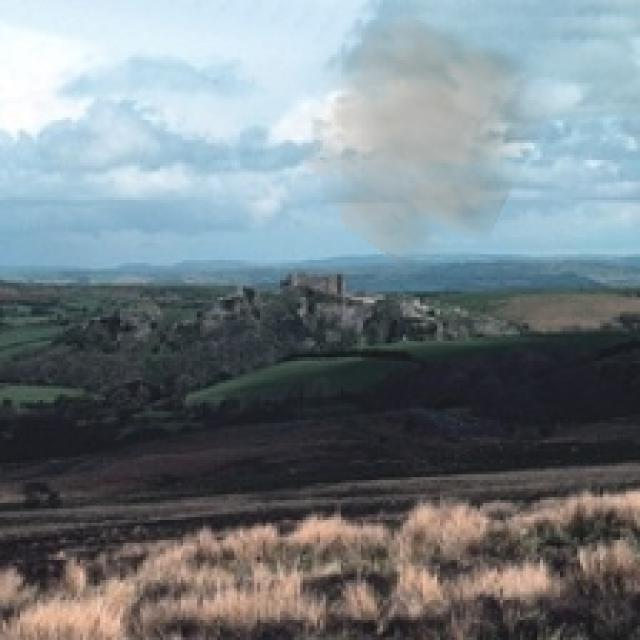Smoke: (291, 2, 560, 274)
